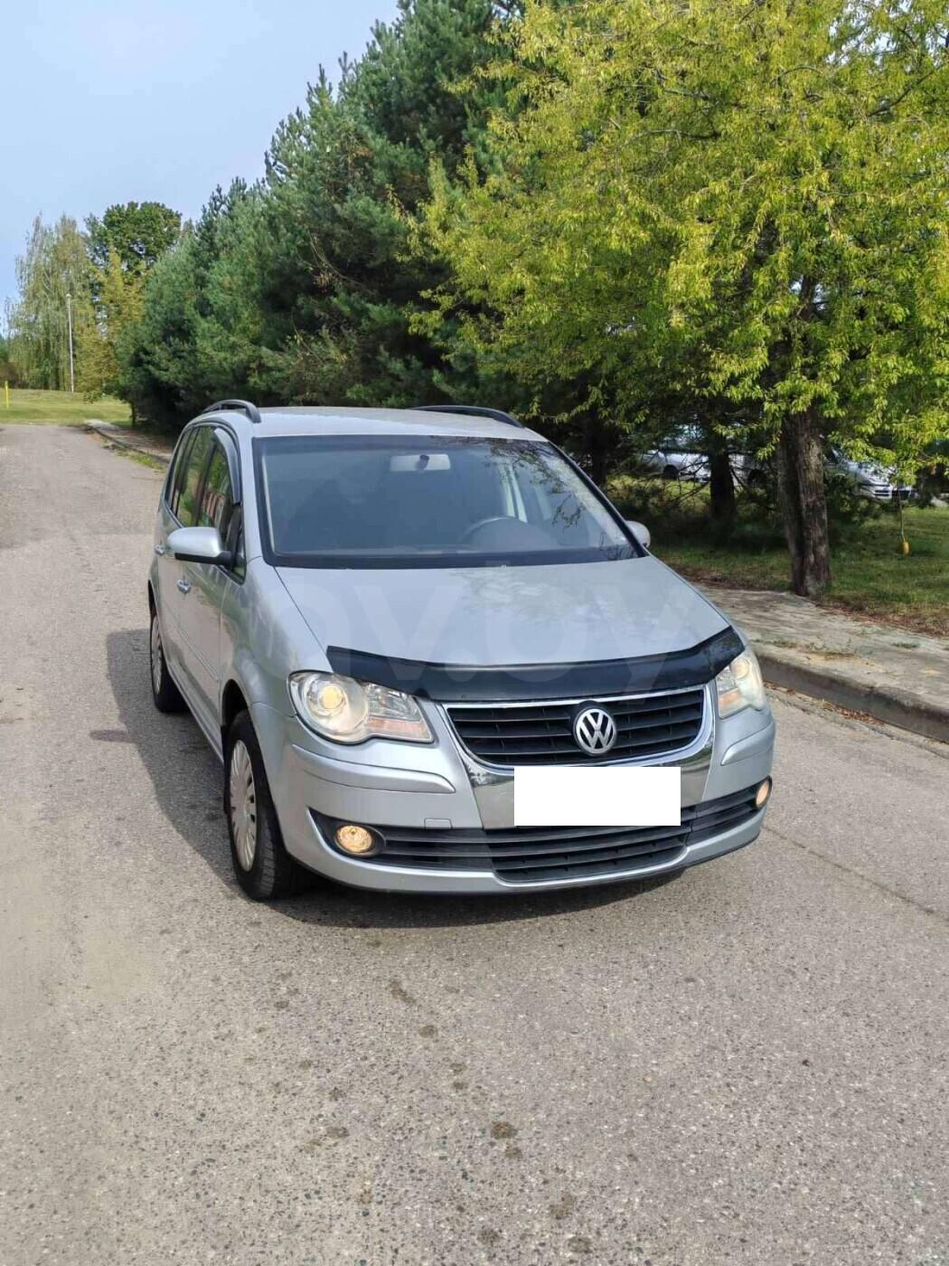Touran_2006-2010: (139, 398, 779, 906)
